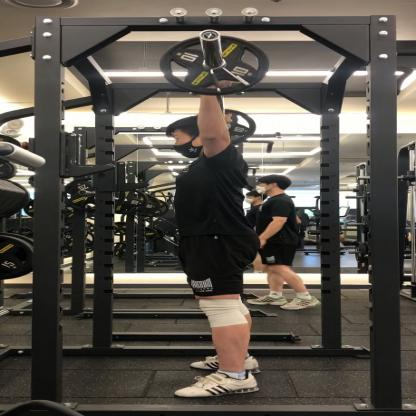Barbell: (152, 31, 276, 98)
